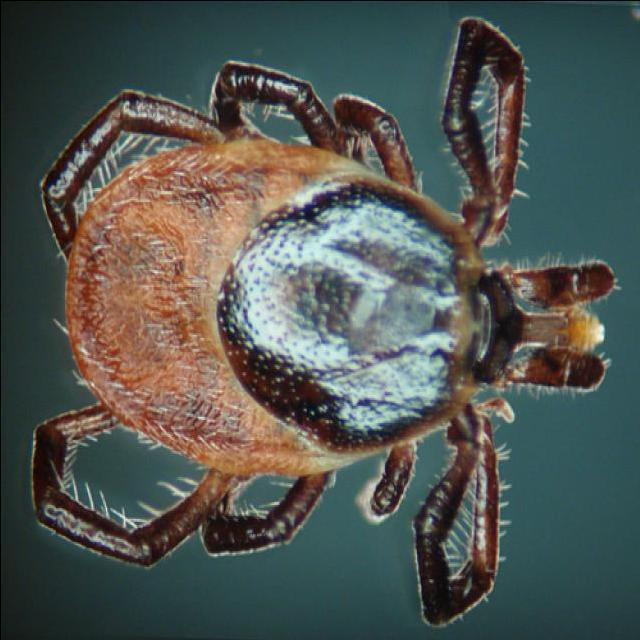Ixodes Ricinus-F: (28, 14, 620, 626)
